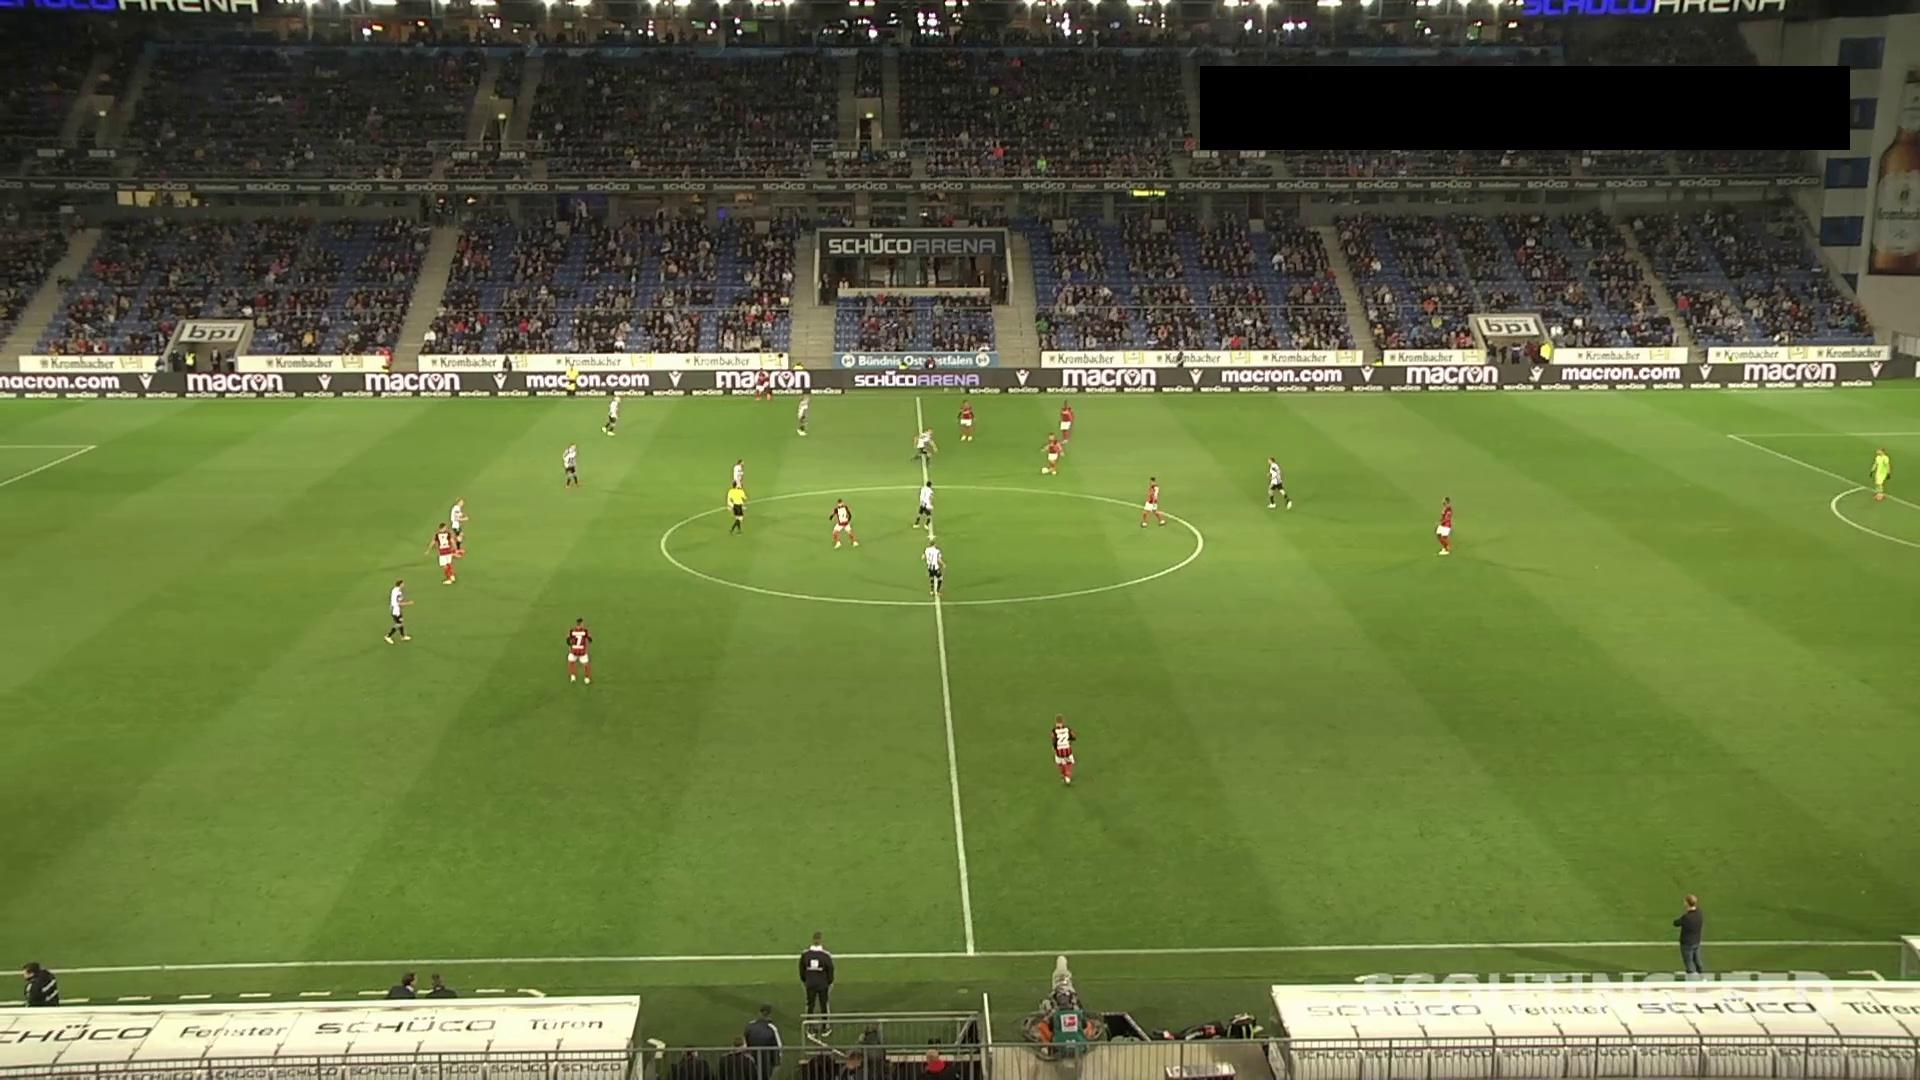Location-of-ball: (1038, 459, 1055, 479)
